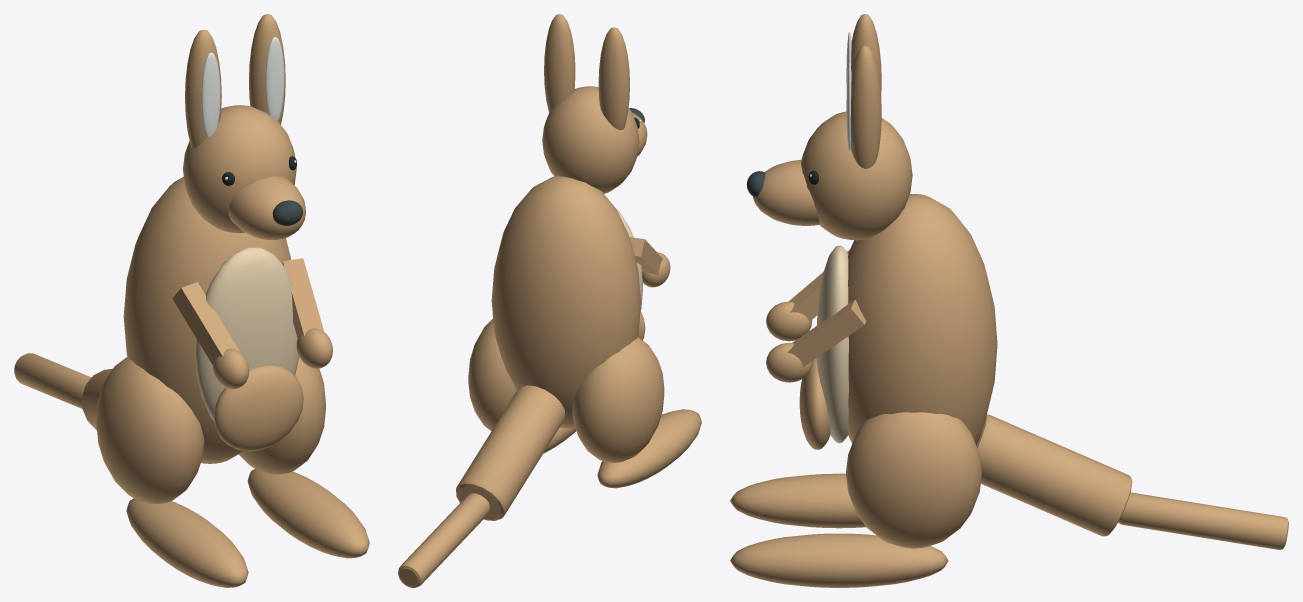
File: city-kangaroo.glb
The picture shows the model from 3 angles, left to right: view 1: azimuth 30°, elevation 25°; view 2: azimuth 150°, elevation 25°; view 3: azimuth 270°, elevation 25°; orthographic projection. The views are drawn at different scales.
Visible parts, largest first — view 1: Animal_kangaroo, Walk_FL, Walk_FR; view 2: Animal_kangaroo, Walk_FL, Walk_FR; view 3: Animal_kangaroo, Walk_FR, Walk_FL.
Part boxes in pixels (left/top/right/bottom): Animal_kangaroo: left=14, top=14, right=332, bottom=463; Walk_FL: left=96, top=357, right=248, bottom=587; Walk_FR: left=239, top=357, right=369, bottom=558; Animal_kangaroo: left=398, top=14, right=670, bottom=587; Walk_FL: left=572, top=337, right=701, bottom=488; Walk_FR: left=468, top=319, right=576, bottom=453; Animal_kangaroo: left=746, top=14, right=1288, bottom=549; Walk_FR: left=730, top=412, right=981, bottom=587; Walk_FL: left=730, top=473, right=866, bottom=528.
Size of the model in its own units: 1.88 by 4.5 by 4.35.
